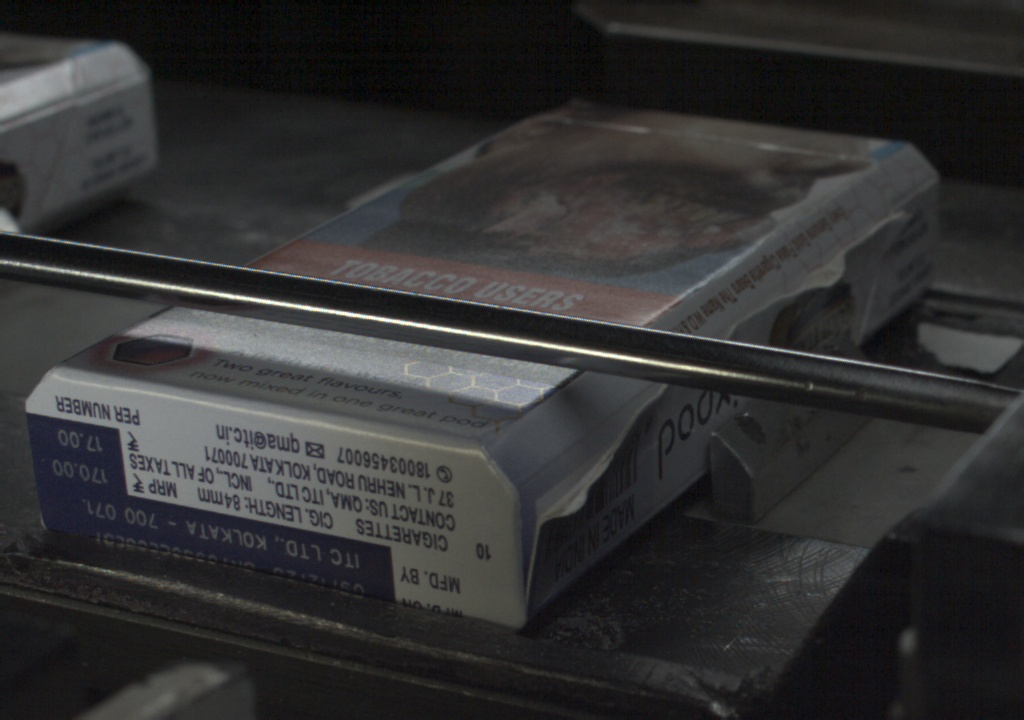g_bottom: (26, 374, 515, 630)
g_label: (37, 495, 395, 601)
g_miter: (902, 177, 937, 202)
ng_lmiter: (527, 454, 595, 595), (595, 384, 658, 470), (774, 241, 845, 300), (846, 209, 897, 245)
price: (34, 424, 126, 493)
